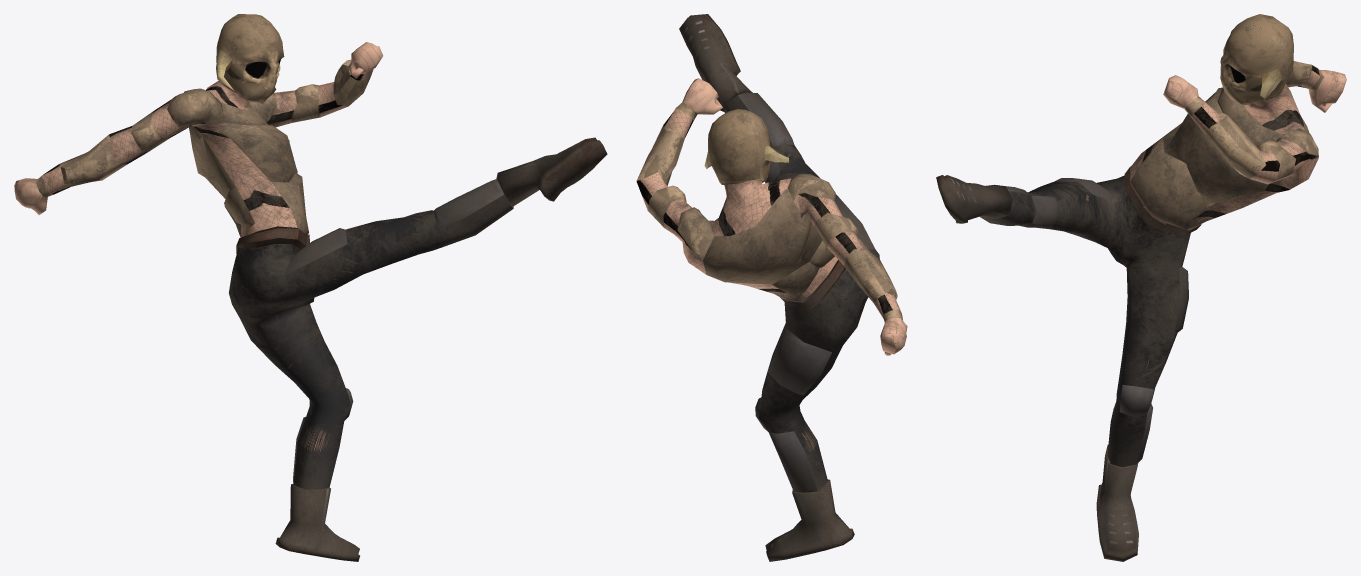
Rendered from Anim_ataque_f1_npc1.0020.obj.
The picture shows the model from 3 angles, left to right: view 1: azimuth 30°, elevation 25°; view 2: azimuth 150°, elevation 25°; view 3: azimuth 270°, elevation 25°; orthographic projection. The views are drawn at different scales.
Visible parts, largest first — view 1: NPC2; view 2: NPC2; view 3: NPC2.
Boxes of the visible parts, box(x1,y1,x2,y2) form: NPC2: box(14, 14, 607, 561); NPC2: box(636, 14, 907, 561); NPC2: box(936, 14, 1346, 561).
Size of the model in its own units: 7.6 by 8.97 by 6.36.
